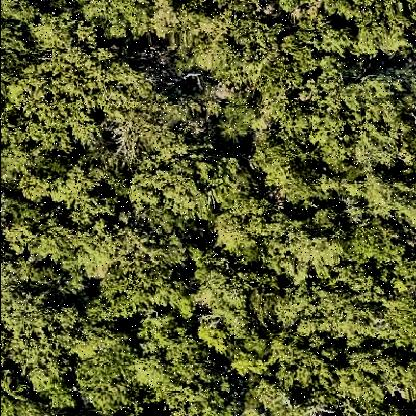tree-top: (18, 64, 112, 161), (128, 148, 214, 243), (2, 295, 84, 394), (151, 349, 253, 416), (344, 78, 408, 176), (71, 332, 141, 416), (326, 1, 416, 65), (283, 212, 351, 291), (193, 252, 257, 333), (1, 199, 71, 261), (338, 345, 402, 409), (342, 218, 404, 269), (29, 13, 78, 57), (285, 162, 325, 206), (216, 107, 256, 144), (385, 295, 416, 341)
